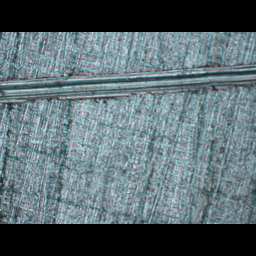d: (0, 55, 255, 106)
